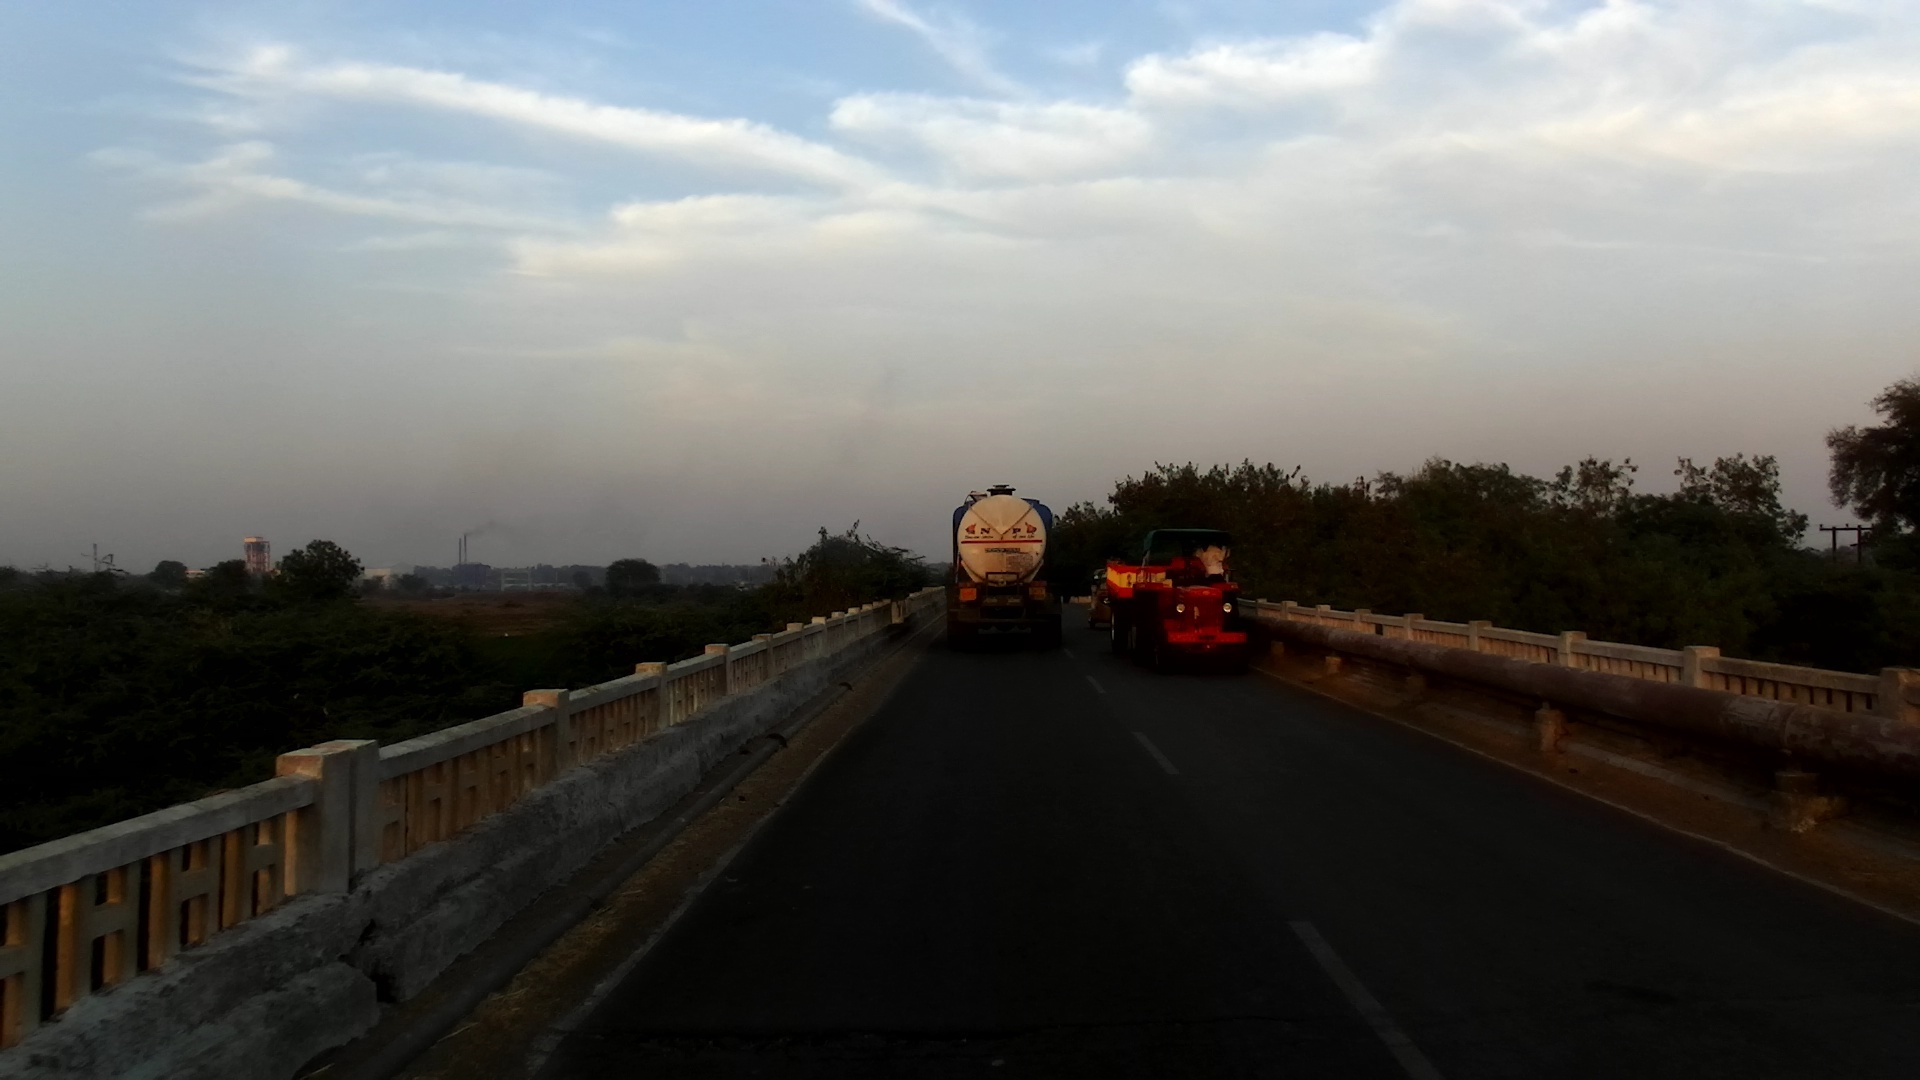autorickshaw: (1090, 570, 1121, 632)
rider: (1191, 536, 1234, 594)
truck: (1096, 528, 1257, 683), (943, 487, 1061, 656)
